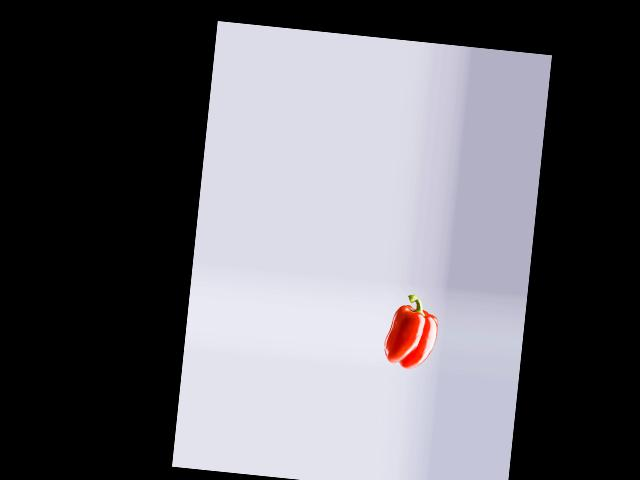bell_pepper: (381, 291, 443, 369)
